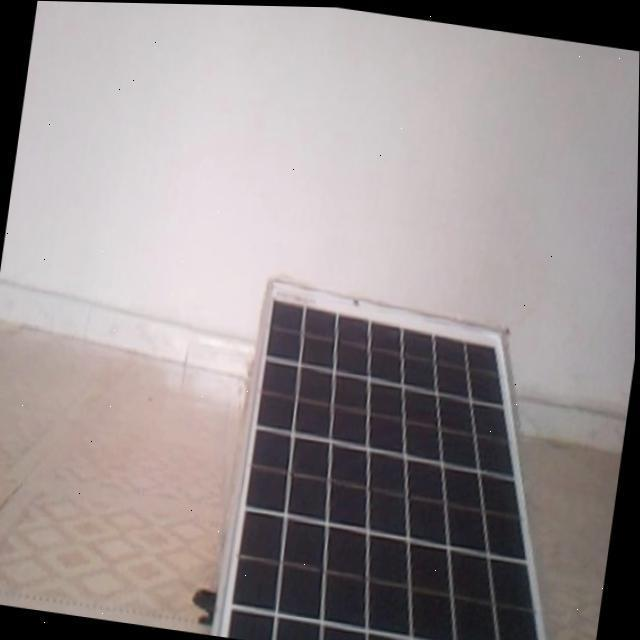Normal Solar Panel: (212, 277, 618, 640)
